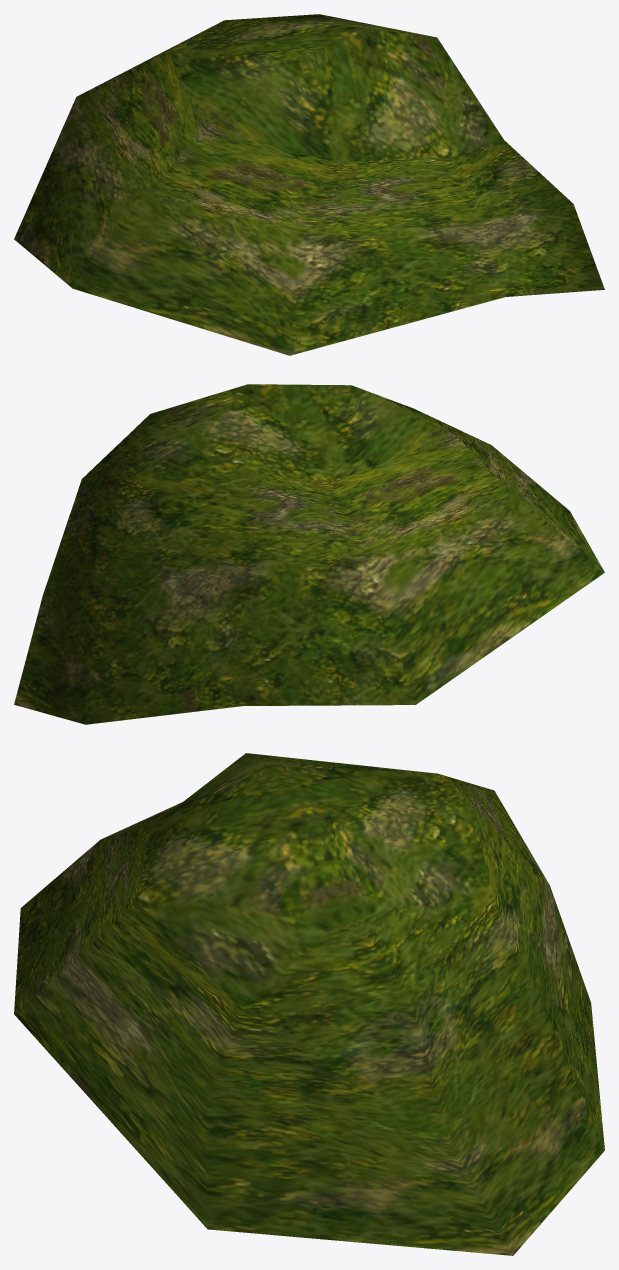
The model's file is OVERHILL_A_01_BR_ROCK202.fbx.
3 renders of one model, top to bottom at view 1: azimuth 30°, elevation 25°; view 2: azimuth 150°, elevation 25°; view 3: azimuth 270°, elevation 25°, orthographic. The views are drawn at different scales.
Parts seen in each view (by area): view 1: OVERHILL_A_01_BR_ROCK202; view 2: OVERHILL_A_01_BR_ROCK202; view 3: OVERHILL_A_01_BR_ROCK202.
Part boxes in pixels (box(x1,y1,x2,y2)): OVERHILL_A_01_BR_ROCK202: box(14, 14, 604, 355); OVERHILL_A_01_BR_ROCK202: box(14, 384, 604, 724); OVERHILL_A_01_BR_ROCK202: box(14, 753, 604, 1255).
Bounding box in the file's own units: 10106 × 5825 × 8793.
Materials: 1 (1 with a texture image).
